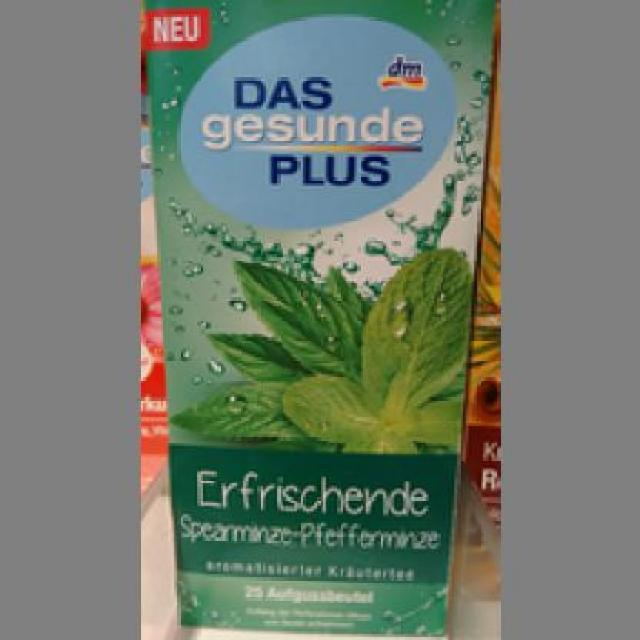Tea: (140, 0, 494, 637)
